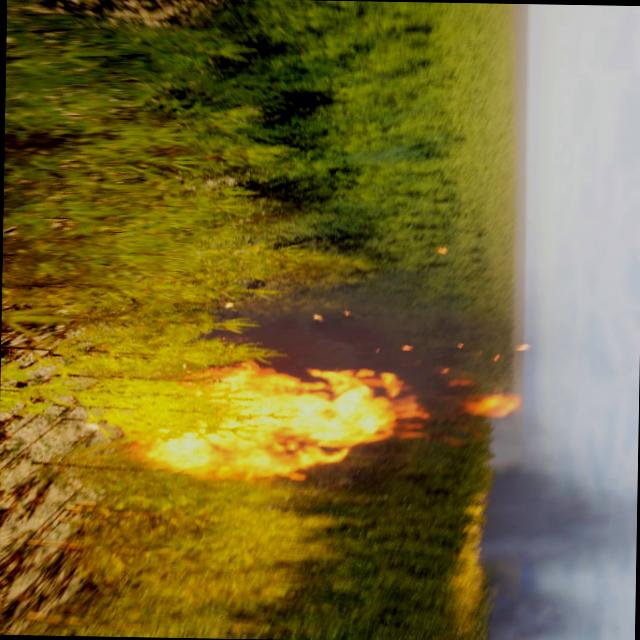fire: (139, 341, 534, 484)
smoke: (212, 278, 526, 484), (477, 463, 637, 640)
